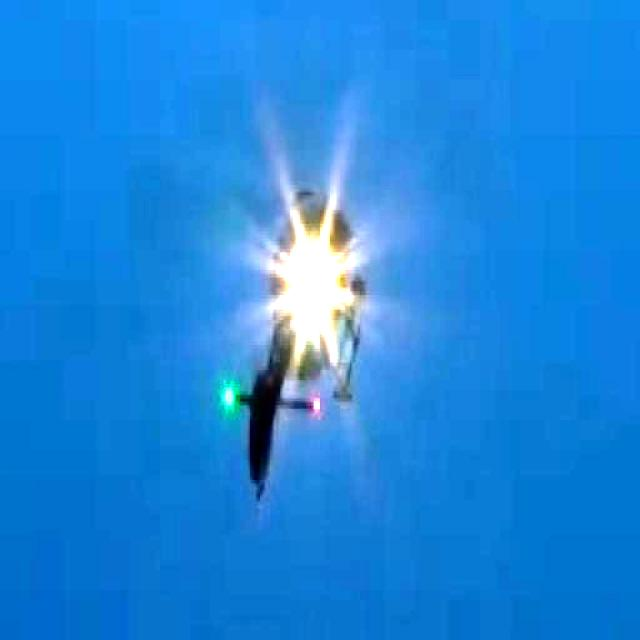drone: (229, 188, 364, 495)
